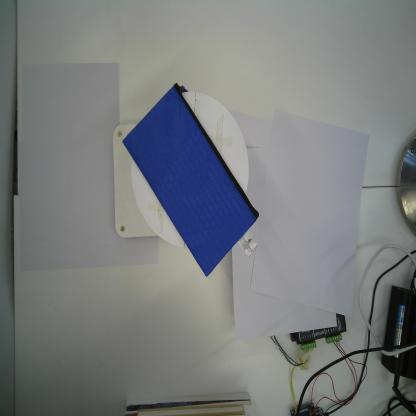Stationery: (121, 80, 262, 280)
